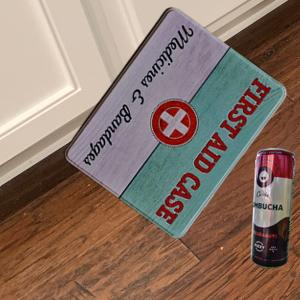can: (252, 146, 296, 269)
